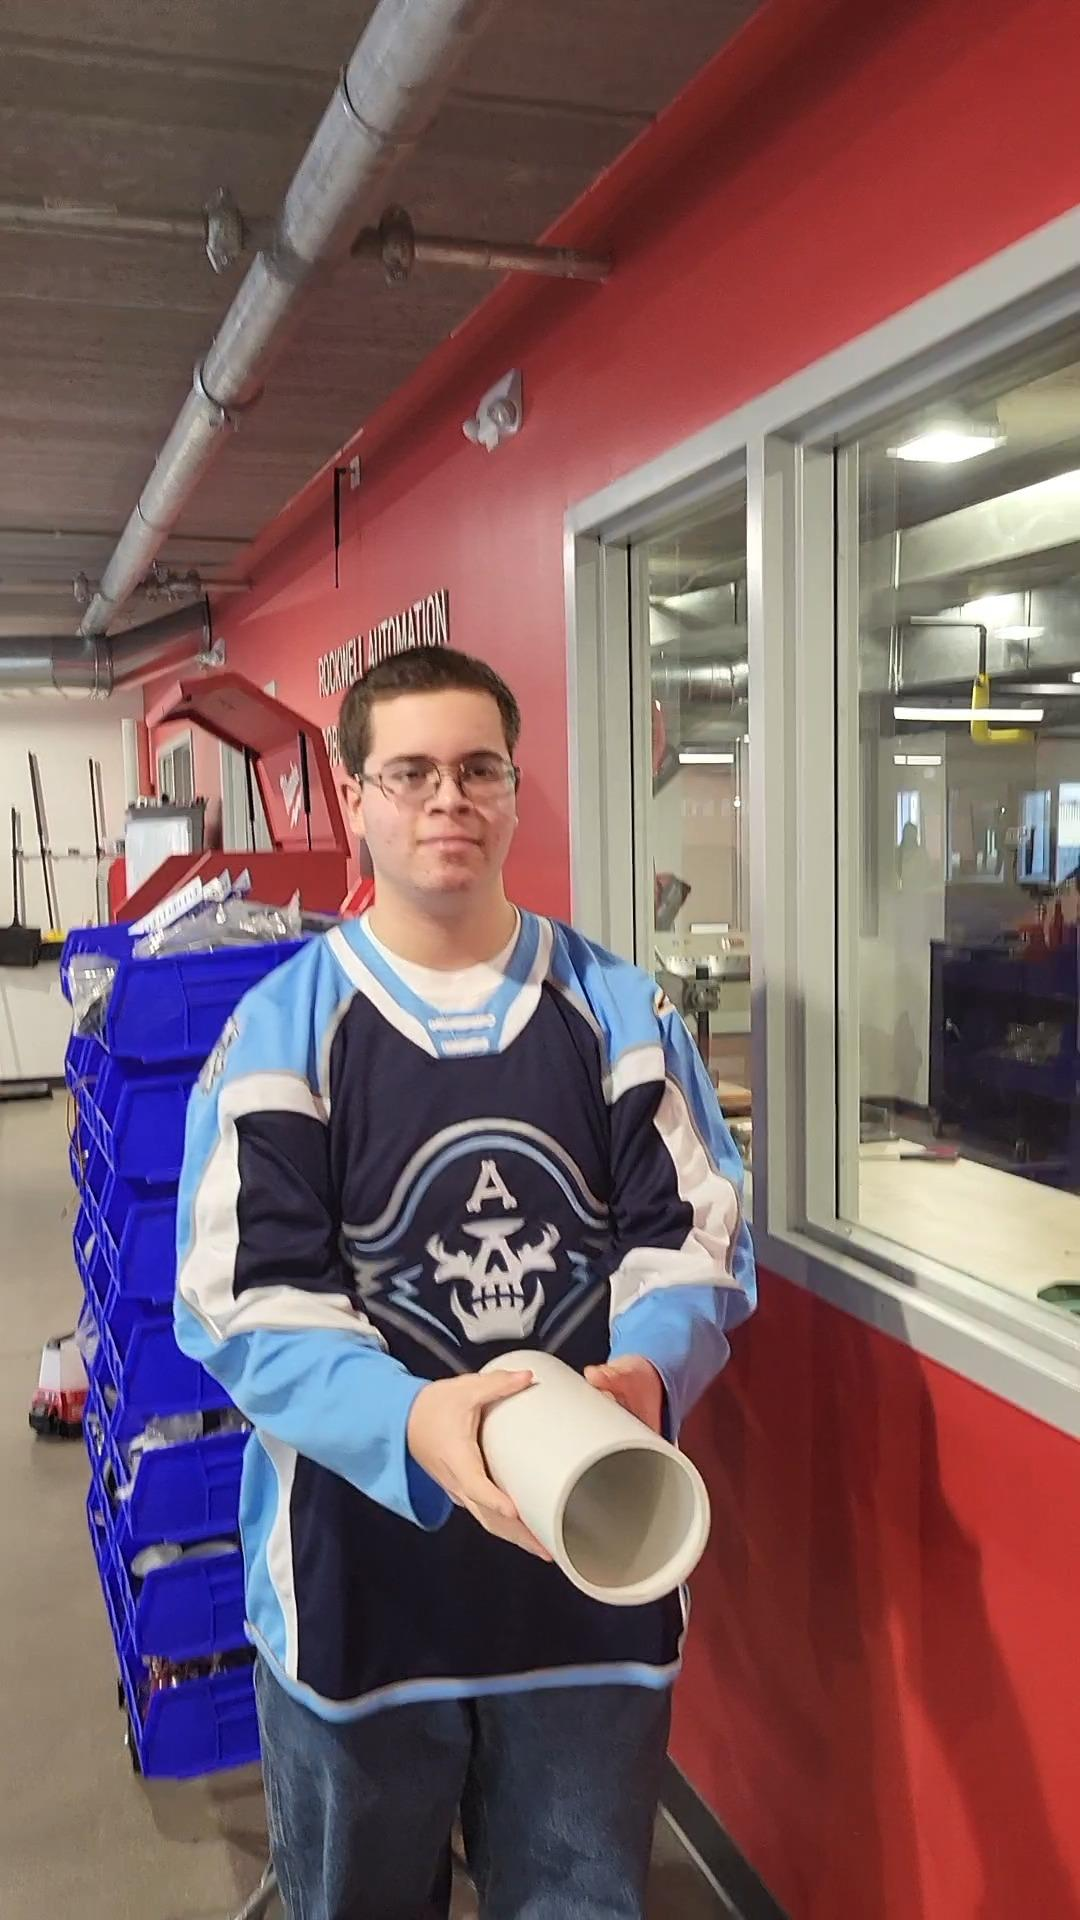coral: (454, 1348, 727, 1617)
